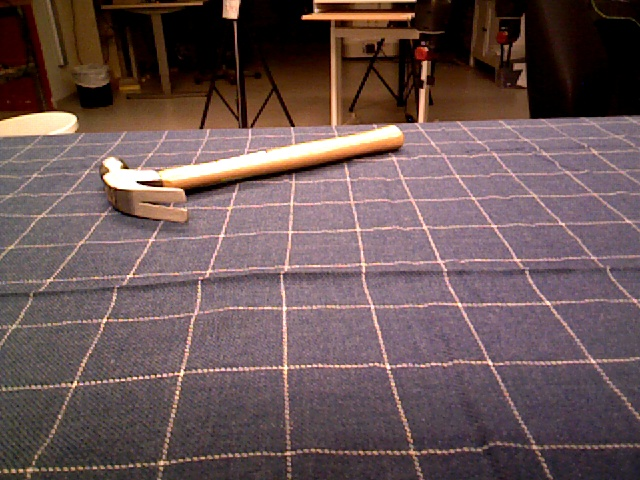hammer1: (99, 125, 405, 225)
